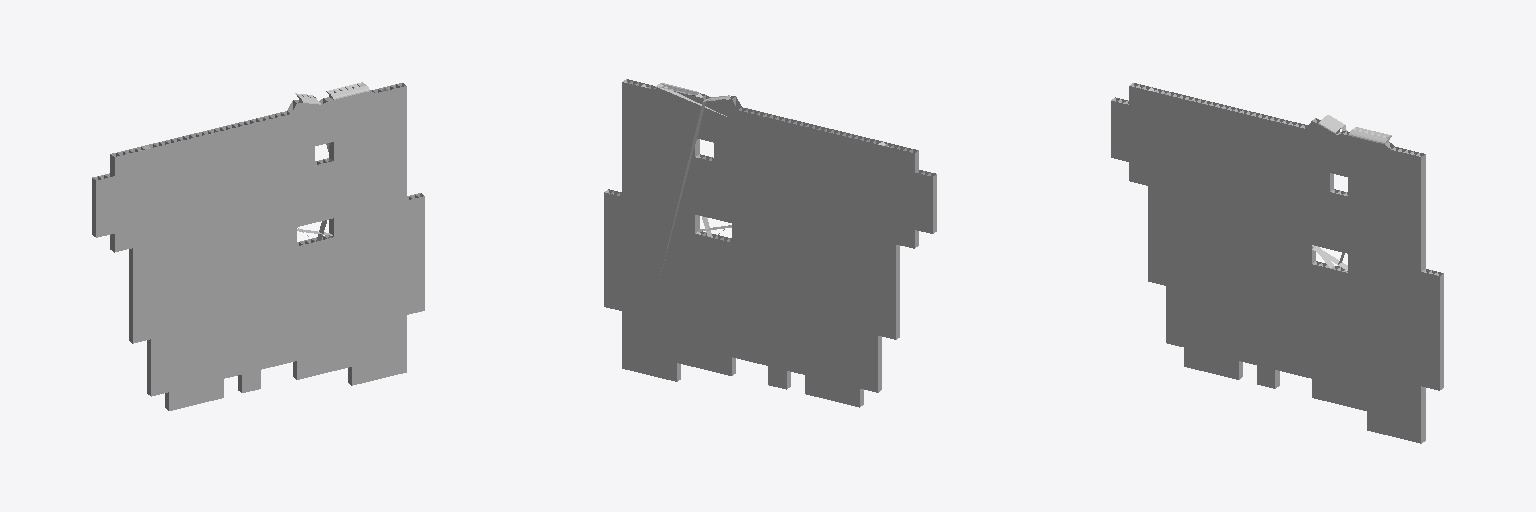
File: 3d_Darnassus-Lake 01.wlw.obj
3 views of the same model, side by side, from view 1: azimuth 30°, elevation 25°; view 2: azimuth 150°, elevation 25°; view 3: azimuth 330°, elevation 25° (orthographic).
Bounding box in the file's own units: 450 × 389 × 22.14.